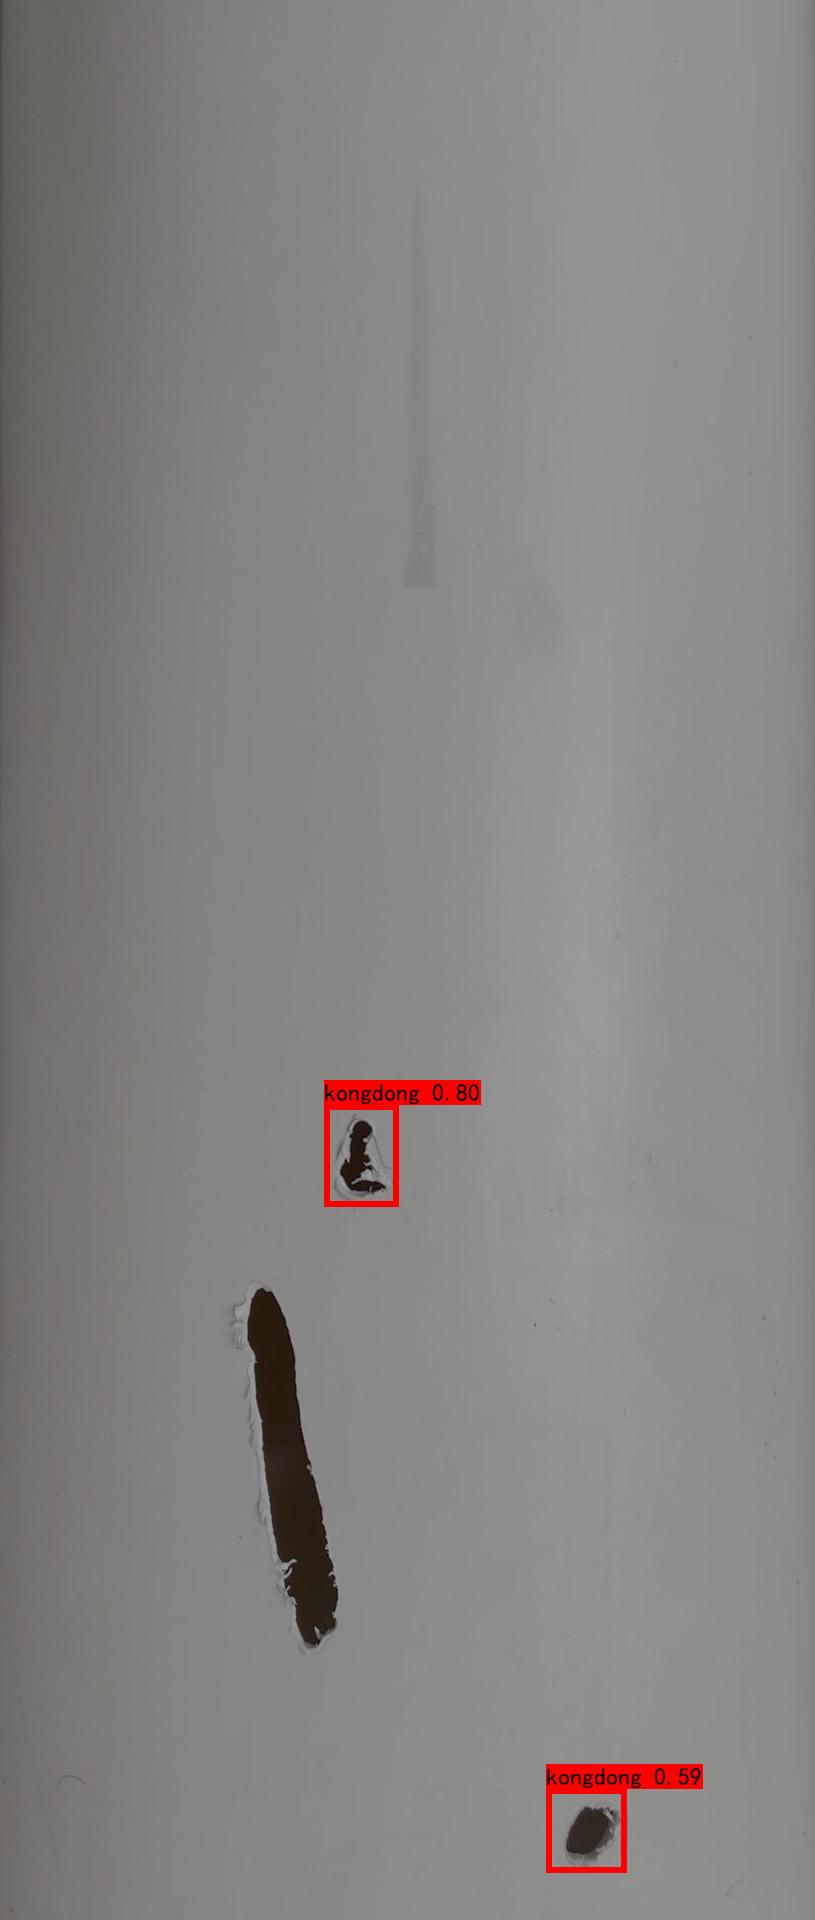fengxi: (230, 1256, 343, 1660)
kongdong: (307, 1101, 392, 1211), (543, 1783, 636, 1876)
